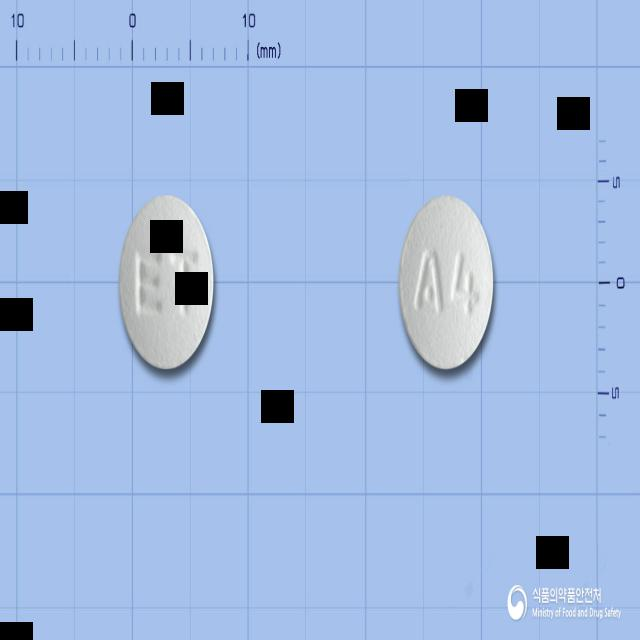Leprex: (398, 193, 494, 374), (120, 194, 213, 369)
